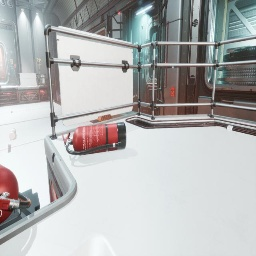0: (9, 128, 16, 140)
EmergencyPhone ,: (10, 58, 13, 64)
FireAlarm ,: (171, 87, 175, 97), (14, 64, 16, 68)
FireExtinguisher ]: (62, 122, 126, 155), (0, 164, 31, 224), (4, 192, 10, 194), (68, 138, 70, 140)
FirstAidBox ,: (0, 84, 2, 88)
